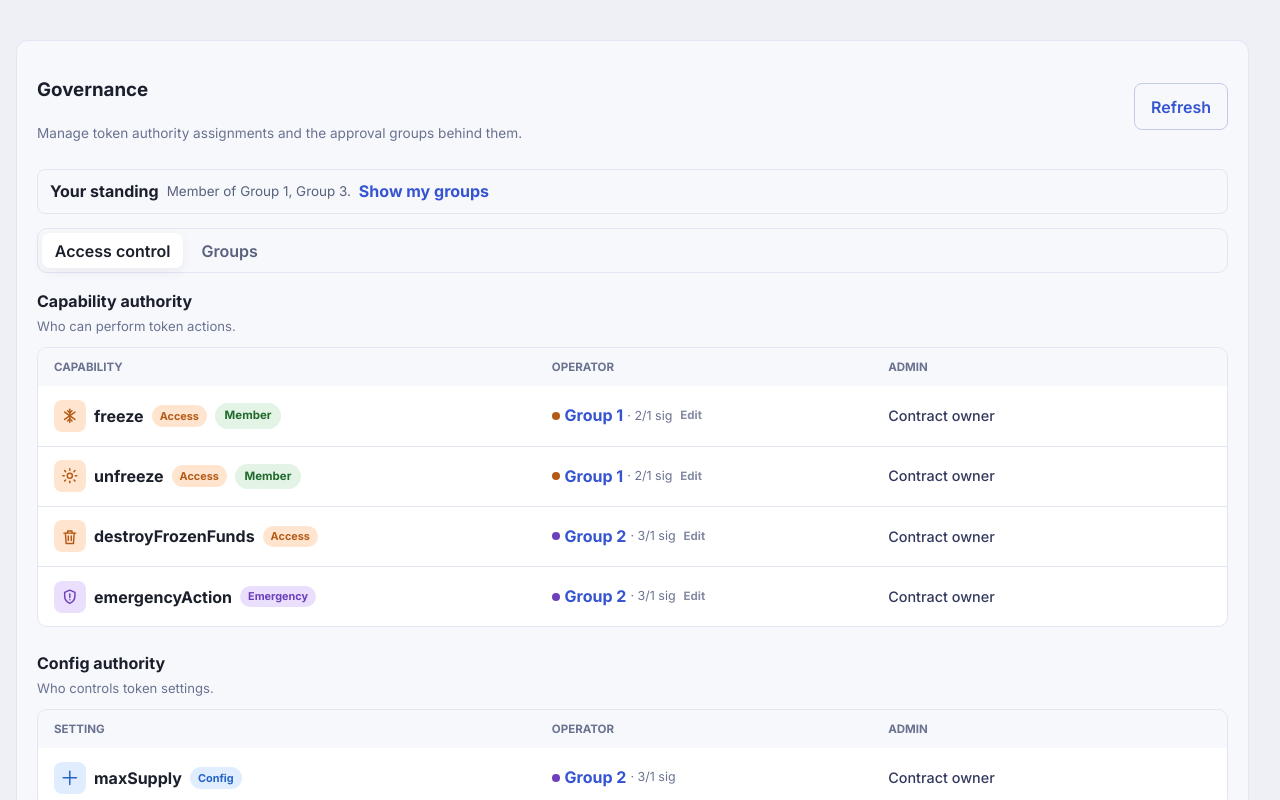
GovernanceView › summarizes membership, capabilities, and empty-group consequences
Check: the text "Member of Group 1, Group 3." is shown, box [167,181,351,201]
Check: the text "Member" is shown 2 times, box [215,403,281,429]; [235,464,301,489]
Click the 1st button "Group 1": (594, 416) [565,406,623,426]
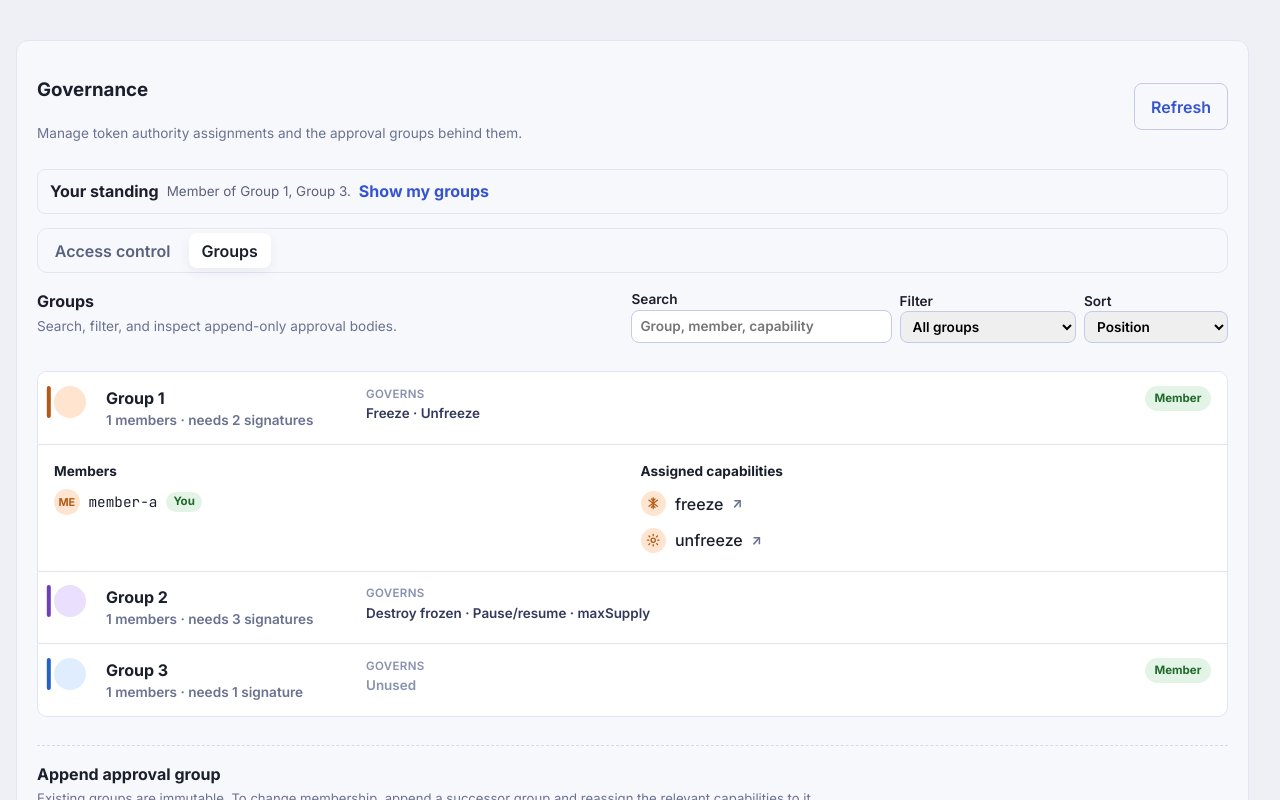
Check: the text "Search" is shown, box [631,289,892,343]
Click the button "Group 3 1 members · needs 1 signature Governs Unused Member": (70, 674) [38,644,1227,716]
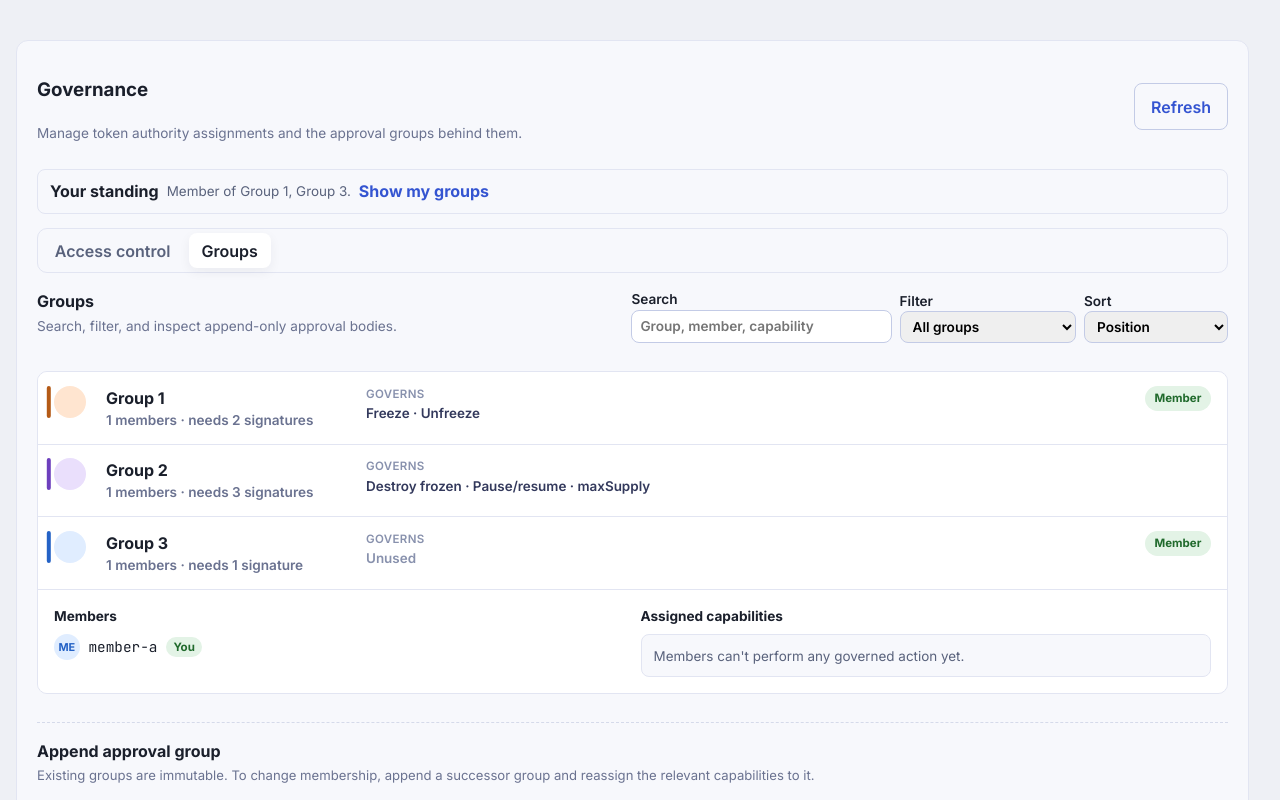
Check: the text "Members can't perform any governed action yet." is shown, box [640,634,1211,677]
